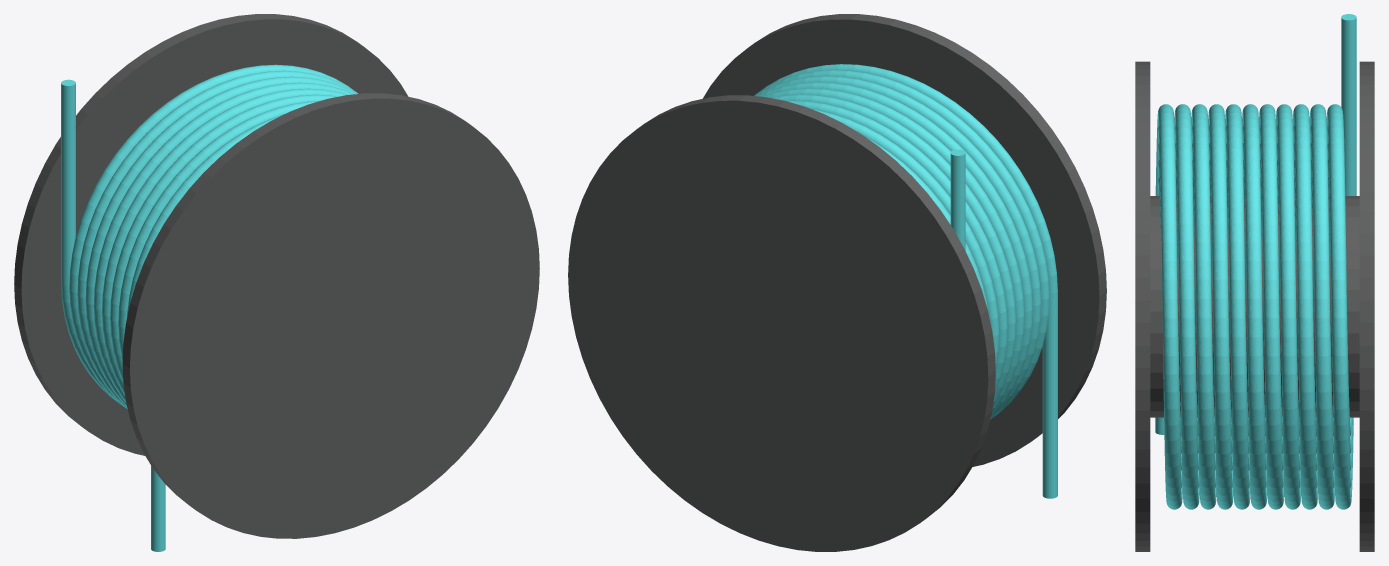
File: wire spool.fbx
The picture shows the model from 3 angles, left to right: view 1: azimuth 30°, elevation 25°; view 2: azimuth 150°, elevation 25°; view 3: azimuth 270°, elevation 25°; orthographic projection. The views are drawn at different scales.
Visible parts, largest first — view 1: Cylinder.001, Circle.002, Cylinder.002; view 2: Cylinder.001, Cylinder.002, Circle.002; view 3: Circle.002, Cylinder.001, Cylinder.
Part boxes in pixels (left/top/right/bottom): Cylinder.001: left=14, top=14, right=539, bottom=538; Circle.002: left=61, top=64, right=358, bottom=551; Cylinder.002: left=21, top=19, right=407, bottom=455; Cylinder.001: left=568, top=14, right=1106, bottom=551; Cylinder.002: left=568, top=100, right=988, bottom=551; Circle.002: left=754, top=64, right=1057, bottom=498; Circle.002: left=1155, top=14, right=1356, bottom=509; Cylinder.001: left=1135, top=61, right=1374, bottom=551; Cylinder: left=1150, top=196, right=1359, bottom=417.
Size of the model in its own units: 130 by 130 by 63.62.
